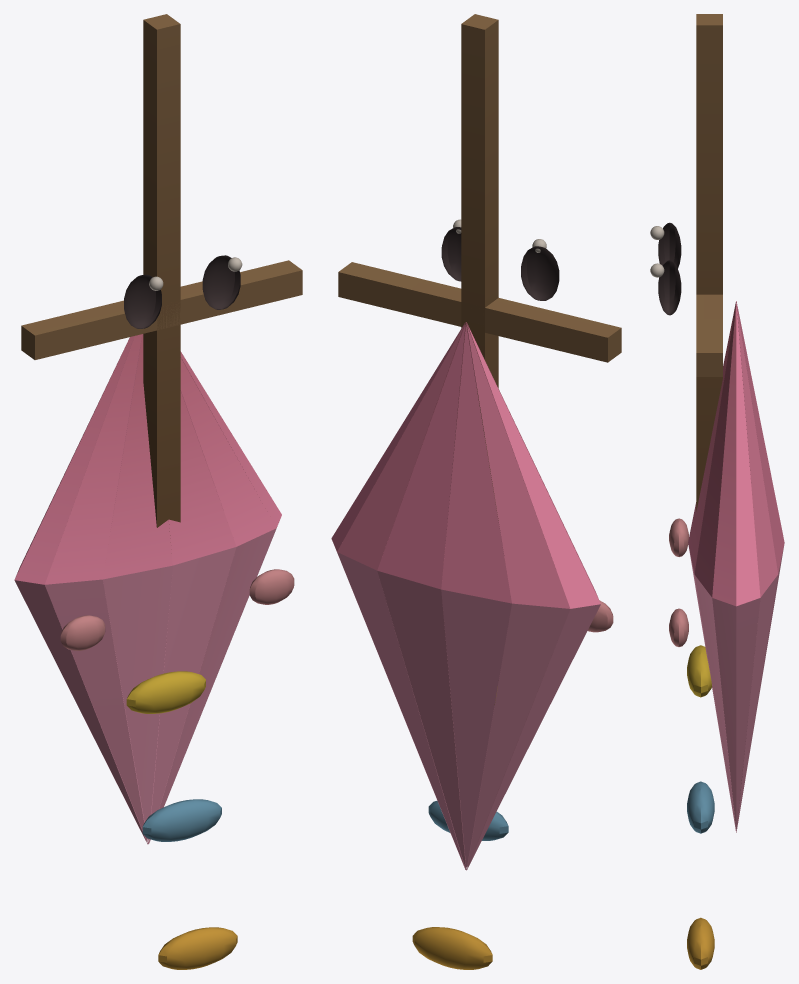
3 views of the same model, side by side, from view 1: azimuth 30°, elevation 25°; view 2: azimuth 150°, elevation 25°; view 3: azimuth 270°, elevation 25° (orthographic). The views are drawn at different scales.
Parts seen in each view (by area): view 1: pet_p71b7e2ad; view 2: pet_p71b7e2ad; view 3: pet_p71b7e2ad.
Boxes of the visible parts, bbox=[...] form: pet_p71b7e2ad: bbox=[14, 14, 302, 969]; pet_p71b7e2ad: bbox=[331, 14, 621, 969]; pet_p71b7e2ad: bbox=[650, 14, 784, 969].
Bounding box in the file's own units: 0.34 × 1.15 × 0.1513.
